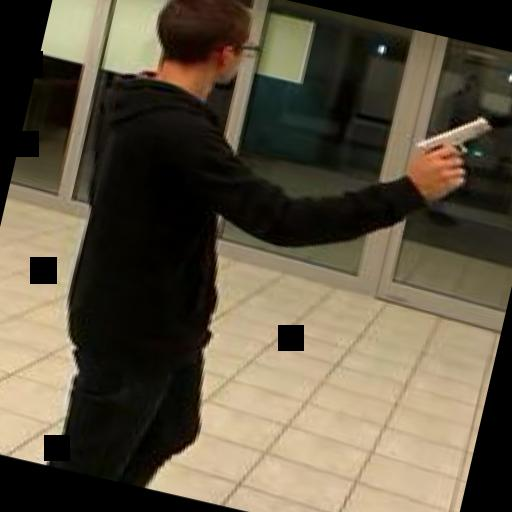Handgun: (406, 98, 492, 188)
